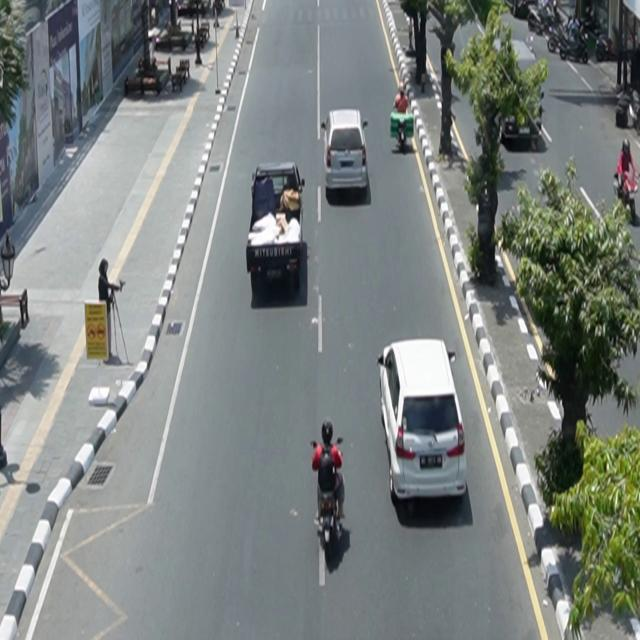car: (378, 338, 468, 505), (247, 163, 306, 292), (322, 109, 370, 194)
